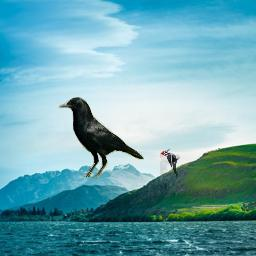Crow: (58, 97, 144, 178)
Woodpecker: (160, 149, 180, 179)
